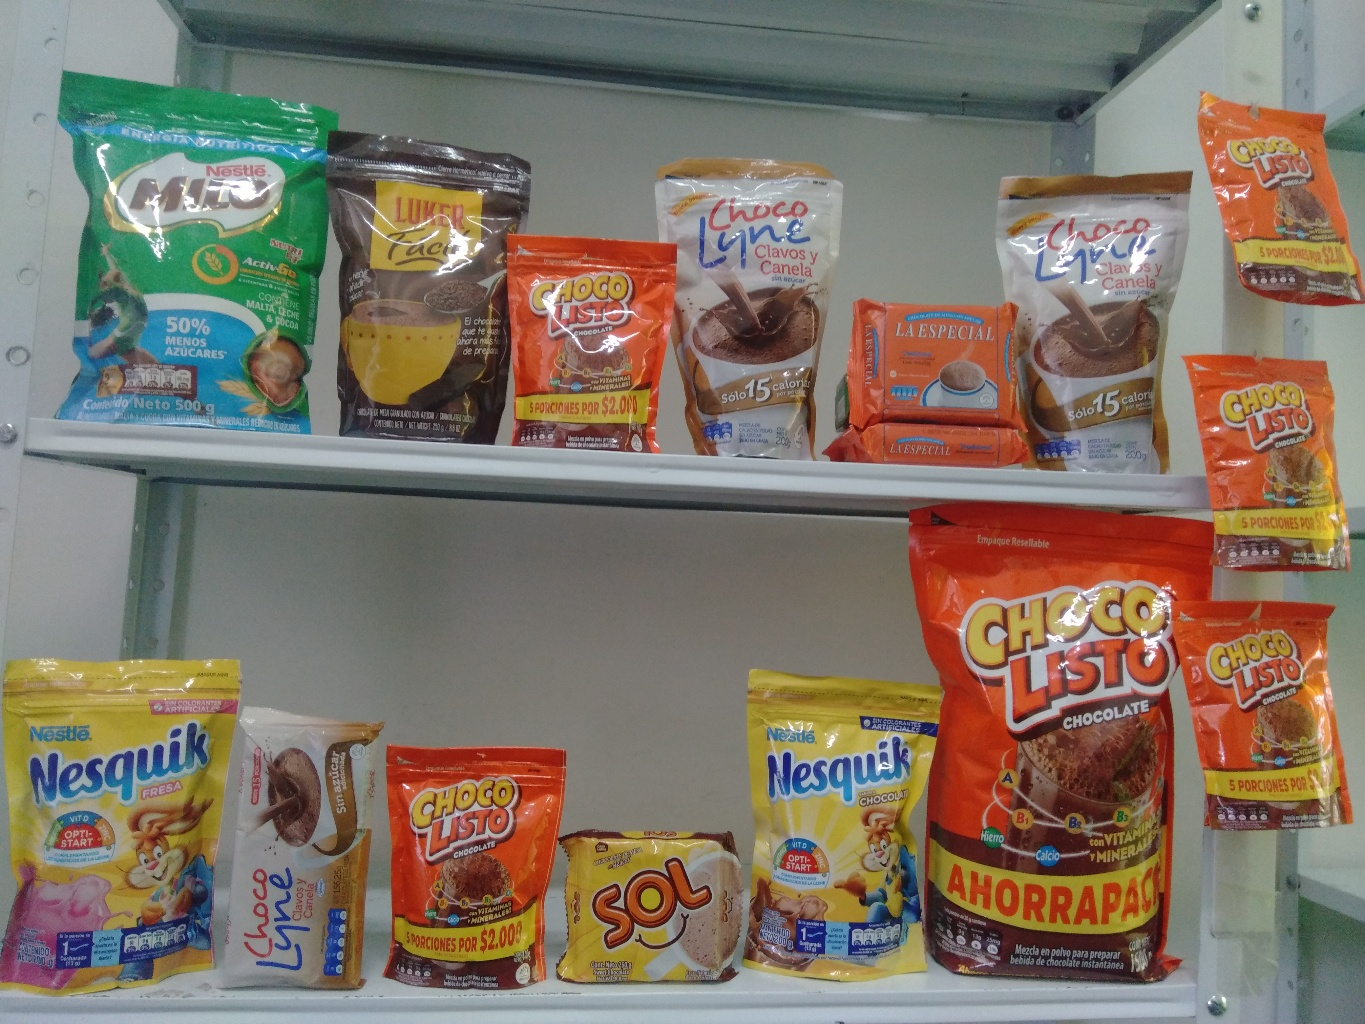COL0170103DYP1,500: (918, 522, 1215, 989)
COL0170205DYP50000: (62, 69, 333, 425)
COL0170303DYP20000: (749, 660, 954, 982)
